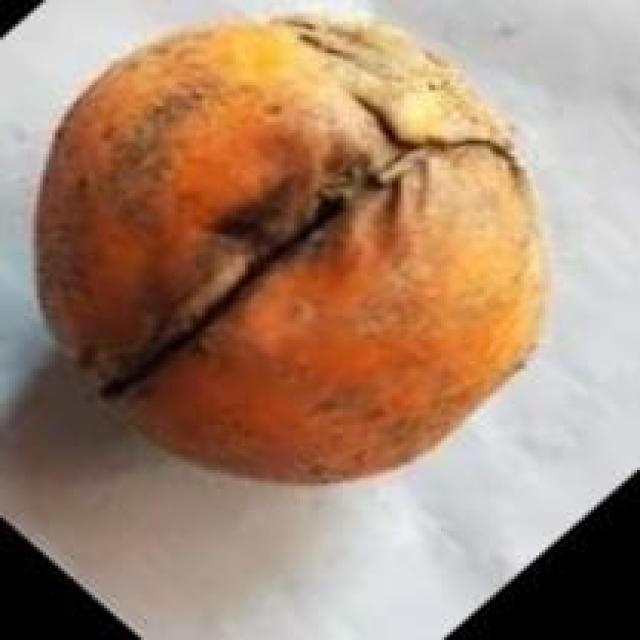damaged: (31, 13, 551, 489)
